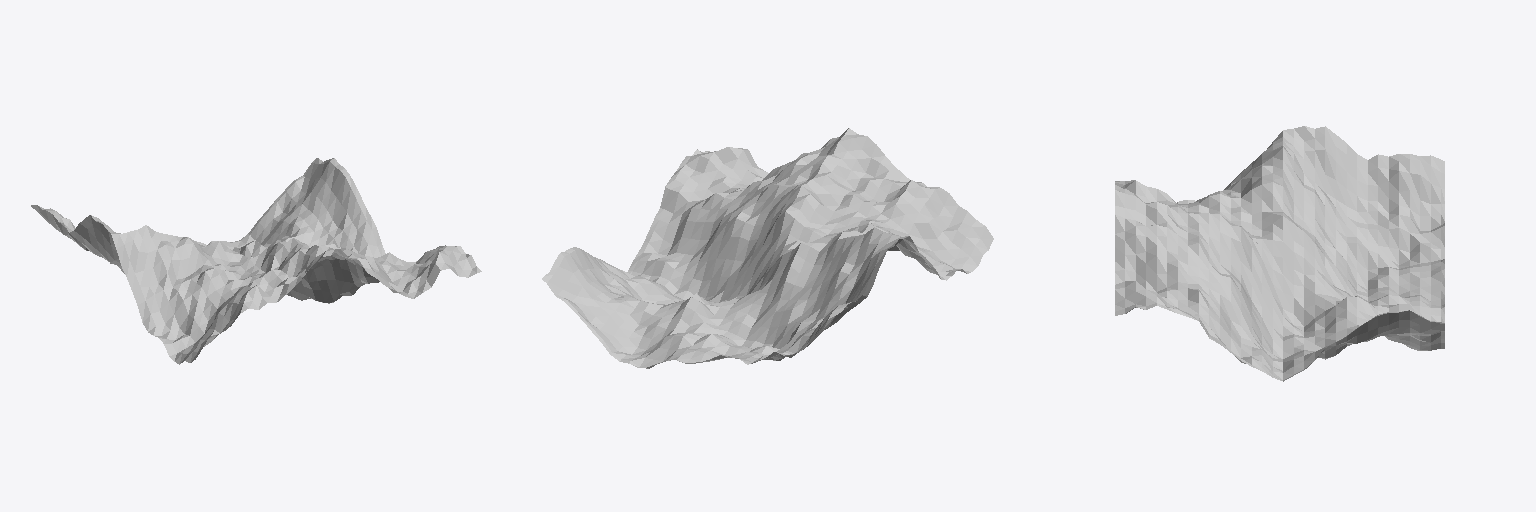
Rendered from terrain_1_-3.obj.
3 views of the same model, side by side, from view 1: azimuth 30°, elevation 25°; view 2: azimuth 150°, elevation 25°; view 3: azimuth 270°, elevation 25° (orthographic).
Parts seen in each view (by area): view 1: terrain_1_-3_Plane.046; view 2: terrain_1_-3_Plane.046; view 3: terrain_1_-3_Plane.046.
Boxes of the visible parts, x1=… form: terrain_1_-3_Plane.046: x1=31, y1=158, x2=481, y2=364; terrain_1_-3_Plane.046: x1=542, y1=128, x2=993, y2=368; terrain_1_-3_Plane.046: x1=1115, y1=126, x2=1444, y2=381.
Size of the model in its own units: 32 by 14.33 by 32.